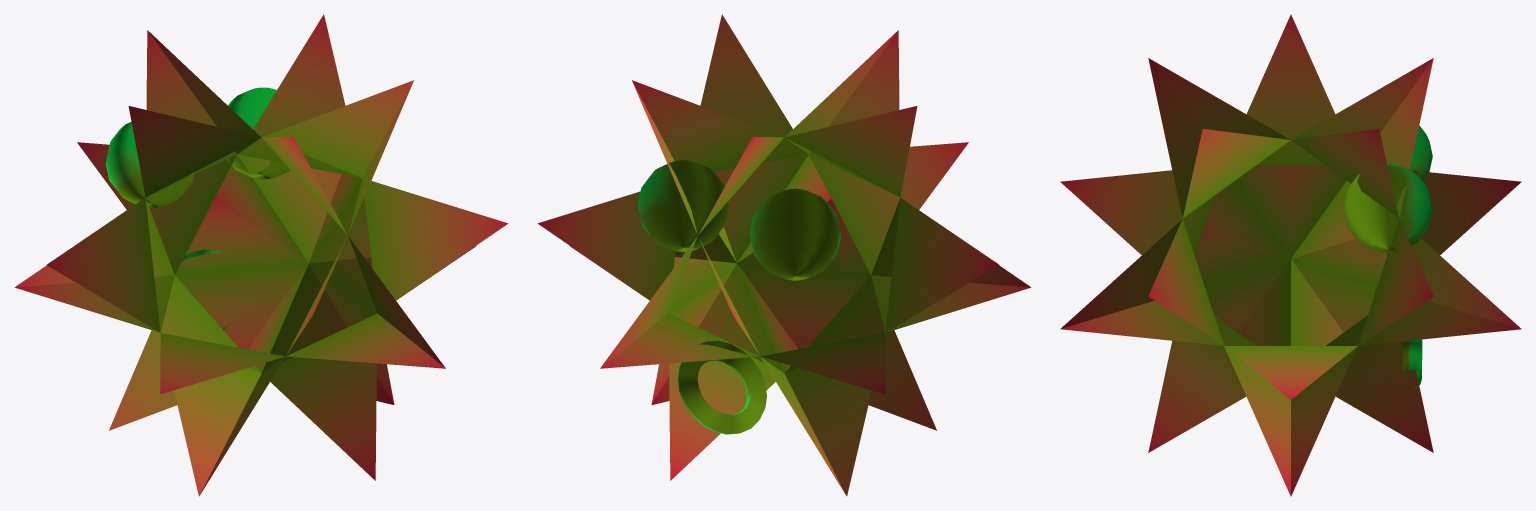
The model's file is spiker.glb.
The picture shows the model from 3 angles, left to right: view 1: azimuth 30°, elevation 25°; view 2: azimuth 150°, elevation 25°; view 3: azimuth 270°, elevation 25°; orthographic projection. The views are drawn at different scales.
Visible parts, largest first — view 1: Icosphere; view 2: Icosphere; view 3: Icosphere.
Boxes of the visible parts, x1=… form: Icosphere: x1=14, y1=14, x2=508, y2=496; Icosphere: x1=537, y1=14, x2=1031, y2=496; Icosphere: x1=1060, y1=14, x2=1521, y2=496.
Size of the model in its own units: 1.07 by 0.8653 by 1.02.
